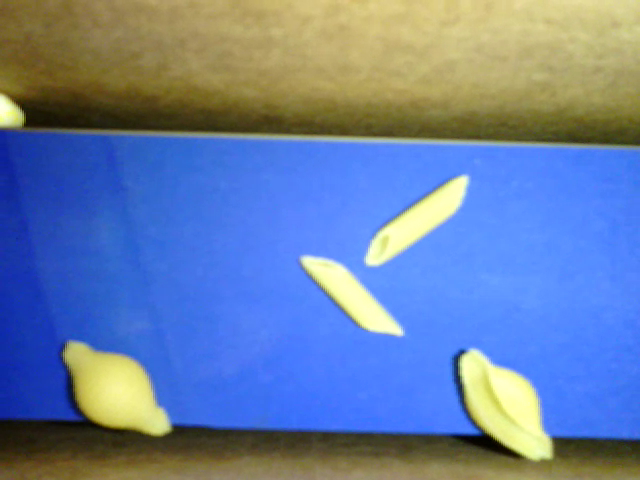penne: (364, 173, 468, 267), (300, 254, 405, 335)
shell: (456, 346, 553, 461), (61, 340, 170, 437)
